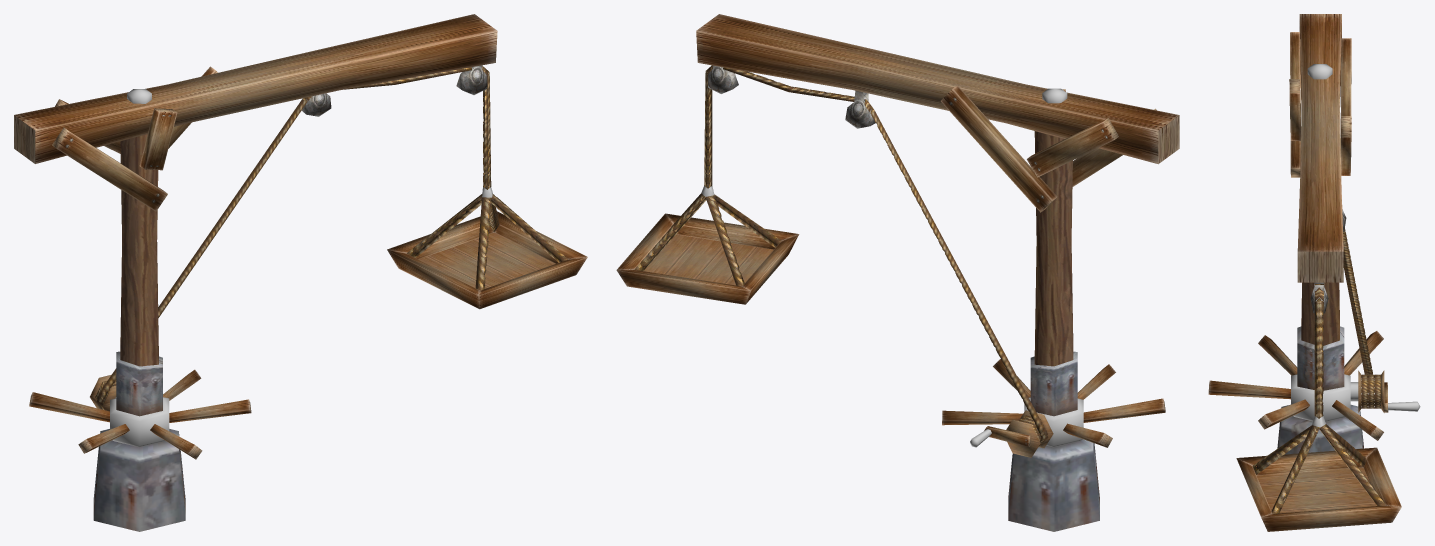
Rendered from excavationcrane.obj.
The picture shows the model from 3 angles, left to right: view 1: azimuth 30°, elevation 25°; view 2: azimuth 150°, elevation 25°; view 3: azimuth 270°, elevation 25°; orthographic projection.
Parts seen in each view (by area): view 1: Geoset2, Geoset7, Geoset0, Geoset5, Geoset4, Geoset3, Geoset1, Geoset6; view 2: Geoset2, Geoset7, Geoset0, Geoset4, Geoset5, Geoset3, Geoset1, Geoset6; view 3: Geoset2, Geoset5, Geoset3, Geoset7, Geoset4, Geoset1, Geoset0, Geoset6.
Part boxes in pixels (left/top/right/bottom): Geoset2: left=14, top=14, right=587, bottom=459; Geoset7: left=93, top=351, right=185, bottom=531; Geoset0: left=120, top=134, right=158, bottom=366; Geoset5: left=95, top=66, right=567, bottom=409; Geoset4: left=52, top=66, right=217, bottom=211; Geoset3: left=90, top=232, right=555, bottom=411; Geoset1: left=110, top=89, right=492, bottom=447; Geoset6: left=302, top=65, right=487, bottom=116; Geoset2: left=616, top=14, right=1179, bottom=447; Geoset7: left=1008, top=351, right=1099, bottom=531; Geoset0: left=1034, top=131, right=1073, bottom=366; Geoset4: left=941, top=85, right=1156, bottom=446; Geoset5: left=634, top=65, right=1048, bottom=447; Geoset3: left=644, top=234, right=1053, bottom=457; Geoset1: left=701, top=88, right=1083, bottom=447; Geoset6: left=707, top=65, right=875, bottom=128; Geoset2: left=1208, top=14, right=1401, bottom=531; Geoset5: left=1252, top=228, right=1385, bottom=513; Geoset3: left=1257, top=370, right=1384, bottom=513; Geoset7: left=1277, top=326, right=1363, bottom=454; Geoset4: left=1289, top=32, right=1388, bottom=412; Geoset1: left=1291, top=64, right=1420, bottom=427; Geoset0: left=1301, top=282, right=1339, bottom=345; Geoset6: left=1310, top=209, right=1346, bottom=313.
Bounding box in the file's own units: 8.39 × 6.32 × 2.89.
